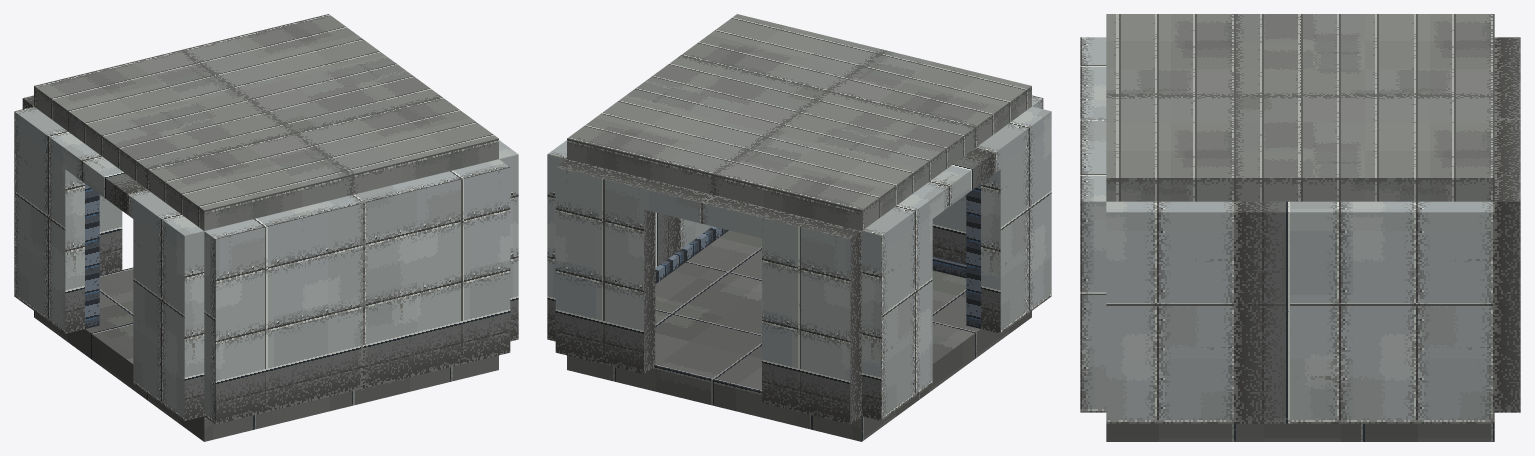
Rendered from shell_corner_right.glb.
3 renders of one model, left to right at view 1: azimuth 30°, elevation 25°; view 2: azimuth 150°, elevation 25°; view 3: azimuth 270°, elevation 25°, orthographic. The views are drawn at different scales.
Visible parts, largest first — view 1: shell_corner_right; view 2: shell_corner_right; view 3: shell_corner_right.
Boxes of the visible parts, x1,y1,x2,y2 form: shell_corner_right: (14, 14, 518, 441); shell_corner_right: (547, 14, 1051, 441); shell_corner_right: (1080, 14, 1520, 441).
Size of what is drawn, in the model's own units: 6.8 by 4.5 by 6.8.
Materials: 18 (18 with a texture image).
